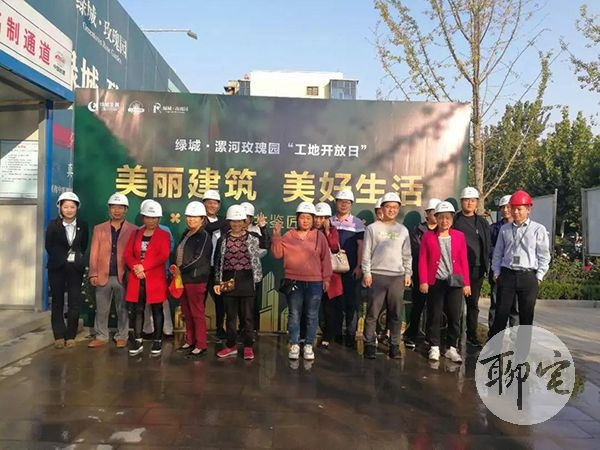red: (507, 188, 532, 222)
white: (53, 190, 82, 220), (138, 198, 164, 230), (432, 200, 456, 232), (105, 190, 129, 221), (183, 199, 206, 231), (293, 201, 317, 230), (224, 204, 247, 234), (379, 190, 401, 220), (458, 185, 480, 214), (333, 187, 355, 215), (201, 189, 221, 217), (313, 201, 332, 228), (423, 195, 439, 224), (496, 192, 510, 221), (241, 201, 255, 225), (373, 197, 384, 220)
